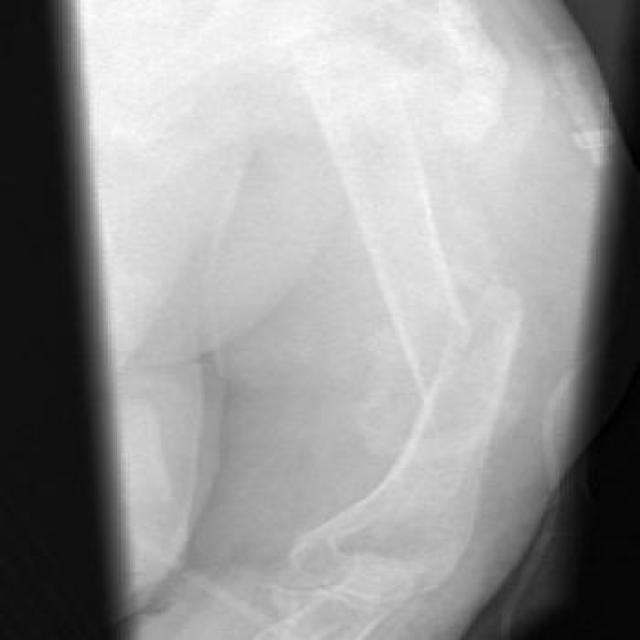Fracture: (388, 279, 538, 409)
